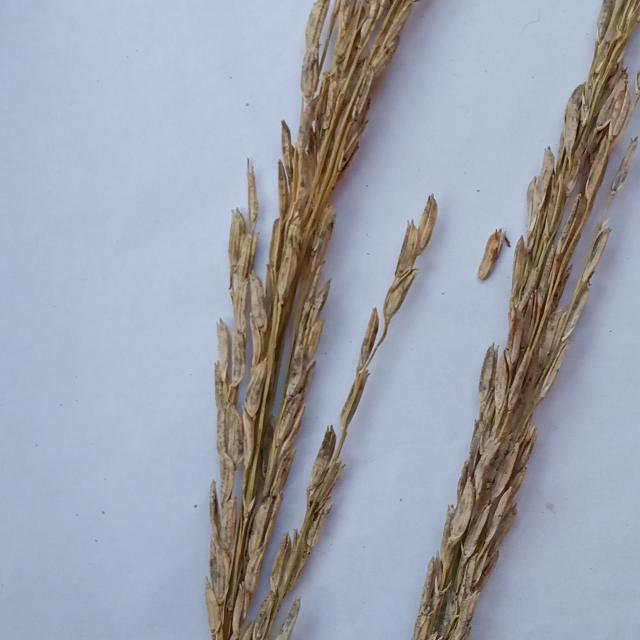Neck_Blast: (206, 0, 436, 638), (411, 0, 639, 632)
